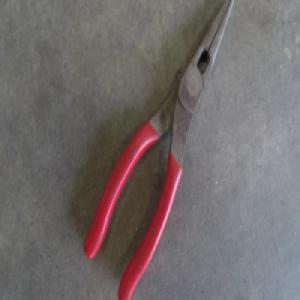Pliers: (83, 7, 232, 294)
